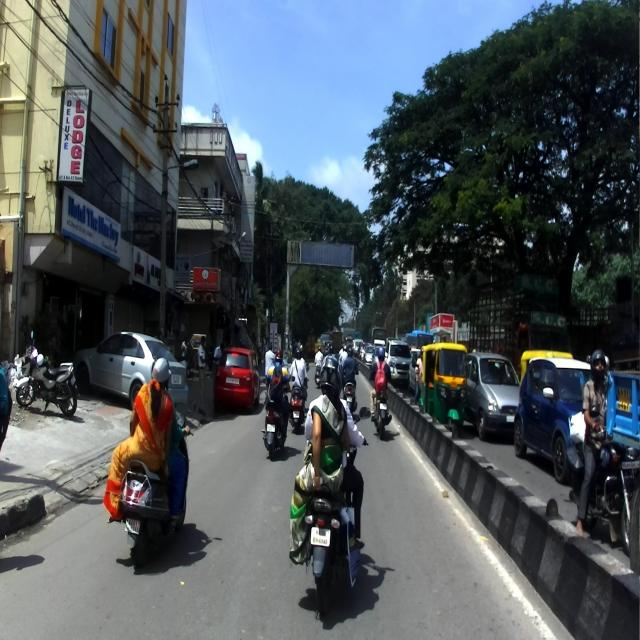Car_Maruti-Suzuki: (513, 354, 593, 488)
autorickshaw: (419, 341, 468, 440)
motorcycle_Hero: (565, 406, 640, 558)
motorcycle_bajaj: (302, 406, 371, 622), (15, 328, 80, 418)
scooter: (120, 398, 197, 564), (261, 372, 295, 460)
